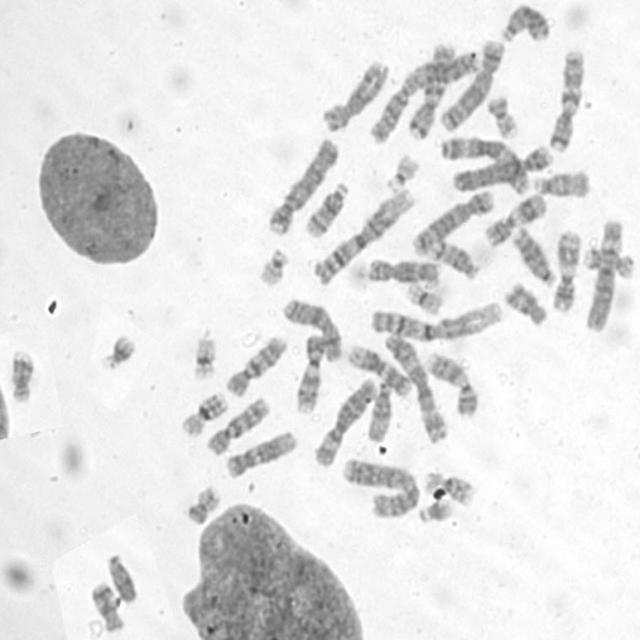A1: (310, 185, 418, 287), (366, 297, 504, 342)
A2: (366, 44, 479, 144), (340, 454, 420, 520)
A3: (381, 327, 449, 445), (438, 132, 532, 197)
B4: (265, 134, 339, 237), (448, 142, 555, 192)
B5: (436, 36, 505, 134), (409, 186, 496, 258)
C10: (221, 331, 289, 398), (202, 394, 271, 456)
C11: (481, 190, 547, 248), (550, 232, 582, 312)
C12: (223, 428, 298, 480), (346, 340, 412, 399)
C6: (311, 374, 378, 468), (581, 216, 623, 334)
C7: (404, 37, 460, 140), (545, 45, 586, 154)
C8: (319, 57, 388, 133), (364, 254, 439, 287)
C9: (423, 349, 479, 422), (292, 333, 326, 417)
D13: (510, 223, 557, 286), (497, 0, 554, 46)
D14: (302, 178, 349, 240), (424, 233, 481, 281)
D15: (363, 376, 395, 443), (528, 165, 591, 199)
E16: (178, 390, 229, 438), (421, 464, 476, 508)
E17: (581, 243, 636, 281), (8, 342, 35, 404)
E18: (502, 279, 549, 325), (88, 578, 126, 632)
F19: (402, 278, 447, 316), (189, 331, 219, 383)
F20: (183, 482, 222, 526), (484, 92, 518, 140)
G21: (98, 331, 137, 372), (415, 496, 454, 524)
G22: (382, 152, 420, 194), (255, 246, 289, 288)
X: (280, 298, 344, 364)
Y: (104, 553, 138, 605)
